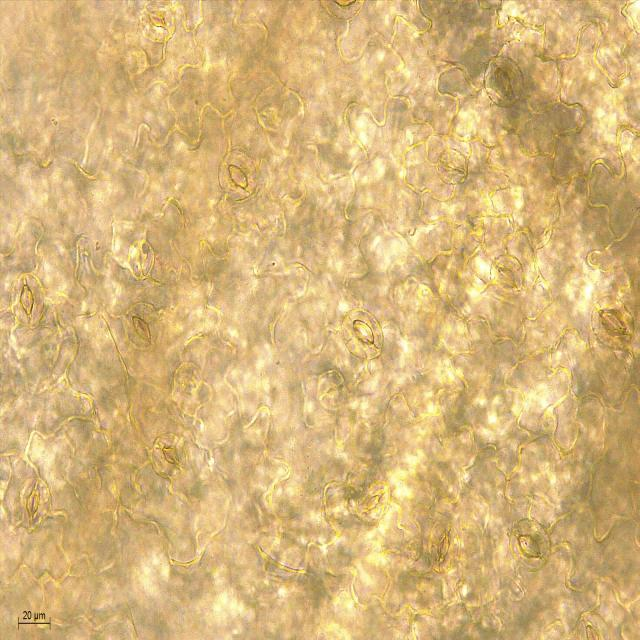Stomata: (590, 296, 636, 351), (339, 306, 384, 361), (482, 55, 525, 108), (217, 149, 258, 204), (509, 517, 550, 570), (8, 271, 46, 328), (16, 476, 52, 530), (122, 302, 162, 349), (150, 434, 189, 478), (427, 522, 460, 573), (355, 479, 391, 524), (490, 254, 524, 298), (140, 2, 177, 41), (317, 371, 346, 412), (437, 148, 468, 186), (128, 240, 154, 282), (576, 610, 610, 640)
